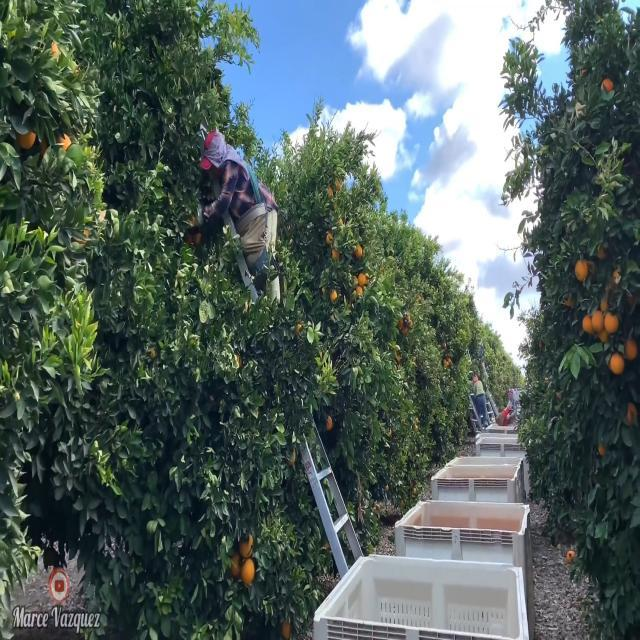Jeruk Sudah Matang: (16, 122, 39, 152), (226, 550, 240, 581), (240, 561, 257, 586), (240, 530, 256, 556), (604, 310, 619, 337), (611, 352, 625, 378), (624, 402, 638, 428), (573, 260, 588, 284), (598, 74, 614, 96), (590, 309, 604, 334), (624, 338, 638, 362), (582, 312, 592, 336), (354, 239, 364, 258), (330, 288, 340, 304), (358, 274, 368, 290), (326, 182, 334, 200), (324, 232, 332, 246)
